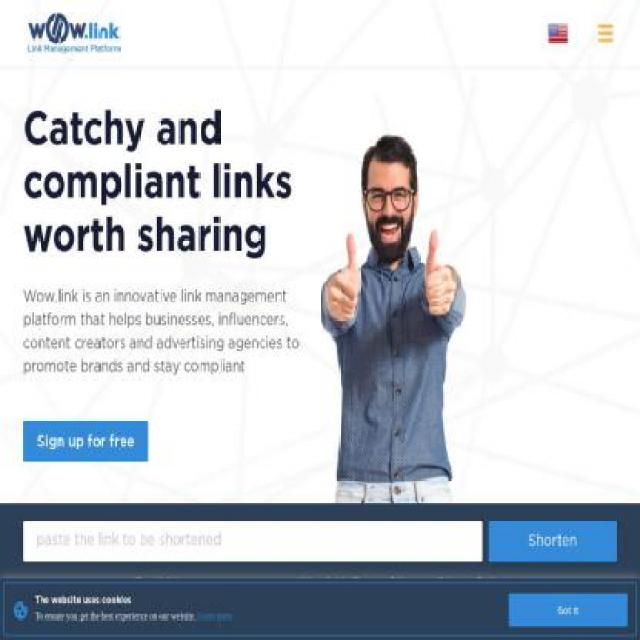button: (19, 0, 130, 68), (488, 520, 617, 562), (23, 420, 148, 462), (509, 593, 628, 627)
field: (23, 520, 483, 562)
